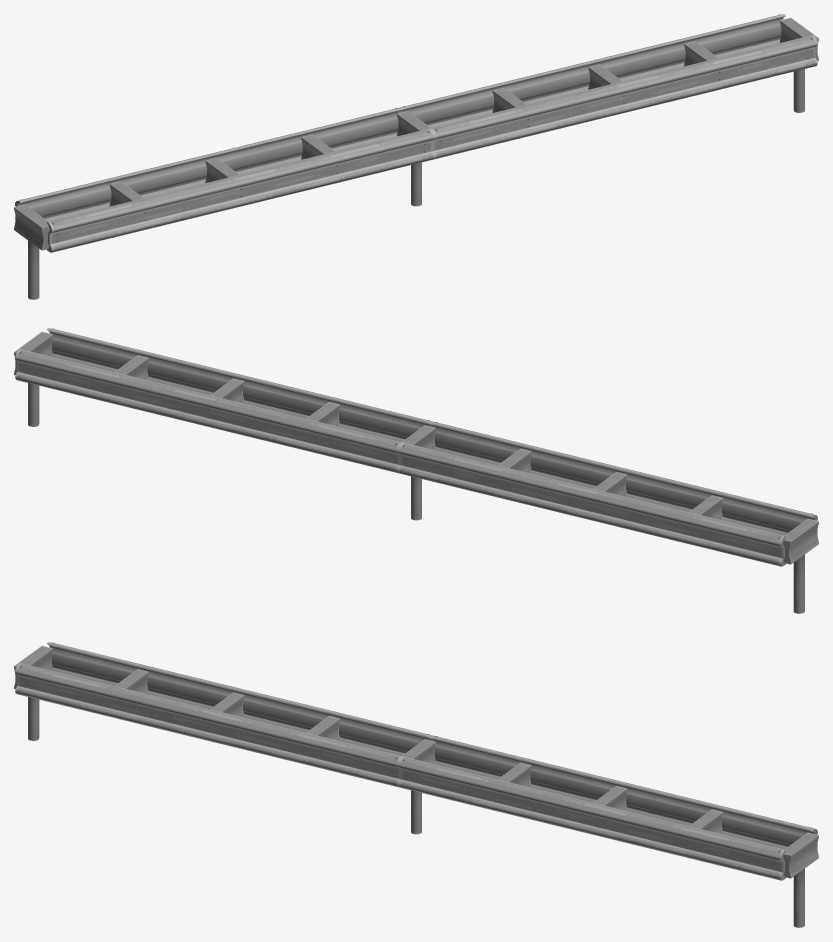
File: Vangrail weg.fbx
3 renders of one model, top to bottom at view 1: azimuth 30°, elevation 25°; view 2: azimuth 150°, elevation 25°; view 3: azimuth 330°, elevation 25°, orthographic.
Parts seen in each view (by area): view 1: middenstuk.001, middenstuk.002, paal.002, paal.005, paal.001; view 2: middenstuk.001, middenstuk.002, paal.002, paal.005, paal.001; view 3: middenstuk.002, middenstuk.001, paal.005, paal.002, paal.001.
Boxes of the visible parts, x1=… form: middenstuk.001: x1=15, y1=107, x2=434, y2=252; middenstuk.002: x1=400, y1=14, x2=817, y2=159; paal.002: x1=14, y1=204, x2=49, y2=299; paal.005: x1=780, y1=17, x2=818, y2=112; paal.001: x1=397, y1=111, x2=430, y2=206; middenstuk.001: x1=398, y1=421, x2=817, y2=566; middenstuk.002: x1=15, y1=328, x2=432, y2=473; paal.002: x1=783, y1=518, x2=818, y2=613; paal.005: x1=14, y1=331, x2=52, y2=426; paal.001: x1=402, y1=425, x2=435, y2=520; middenstuk.002: x1=398, y1=735, x2=817, y2=880; middenstuk.001: x1=15, y1=642, x2=432, y2=787; paal.005: x1=783, y1=832, x2=818, y2=927; paal.002: x1=14, y1=645, x2=52, y2=740; paal.001: x1=402, y1=739, x2=435, y2=834.
Bounding box in the file's own units: 1015 × 107 × 83.89.
